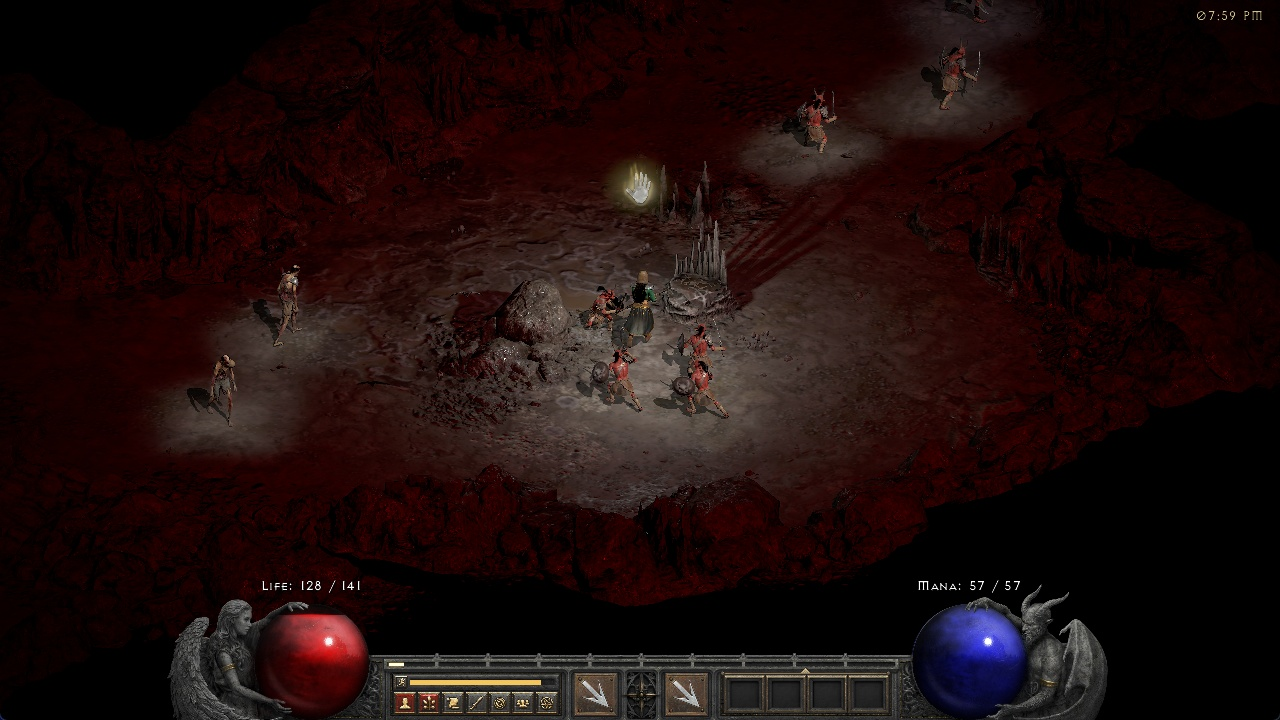fallen: (589, 345, 646, 411), (931, 44, 983, 112), (792, 88, 843, 156), (676, 359, 727, 418), (582, 284, 623, 332), (678, 316, 725, 352)
